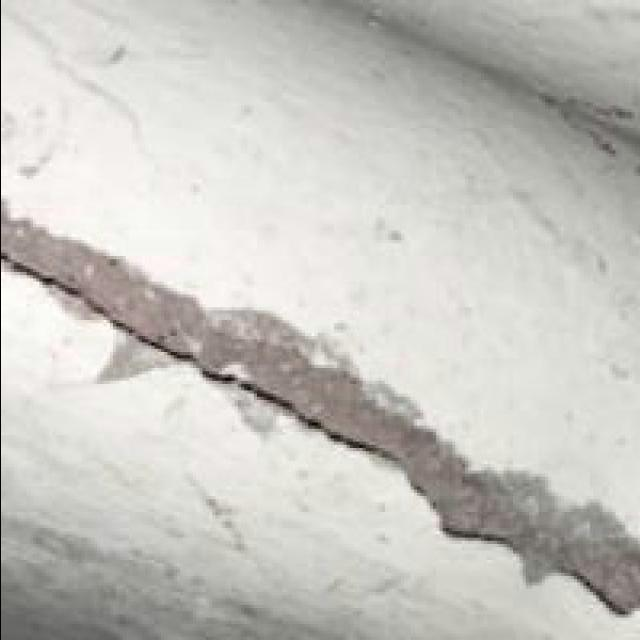SurfaceCrack: (0, 216, 626, 618)
